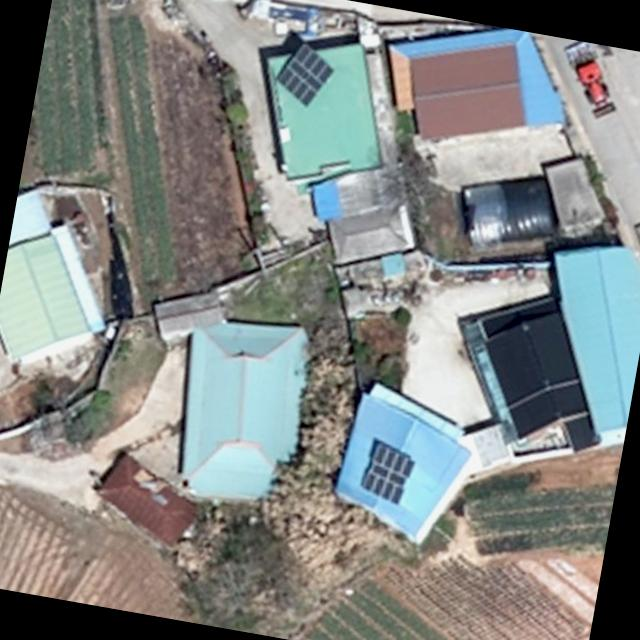solar: (270, 35, 341, 113), (354, 436, 418, 508)
